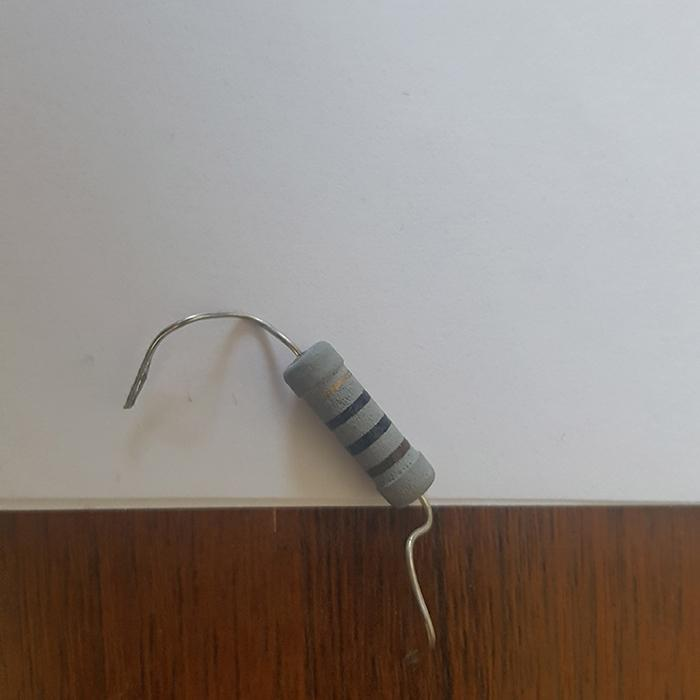resistor: (281, 338, 434, 505)
